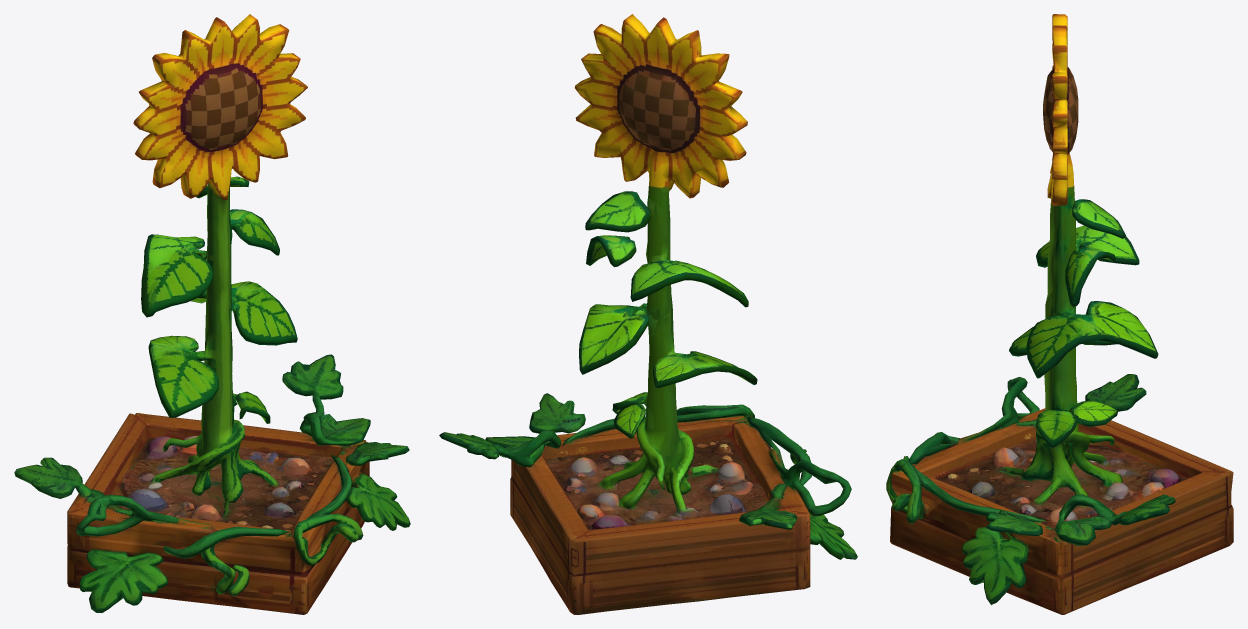
The model's file is sunflower.glb.
The picture shows the model from 3 angles, left to right: view 1: azimuth 30°, elevation 25°; view 2: azimuth 150°, elevation 25°; view 3: azimuth 270°, elevation 25°; orthographic projection. The views are drawn at different scales.
Bounding box in the file's own units: 1.26 × 1.91 × 1.15.
Materials: 1 (1 with a texture image).
